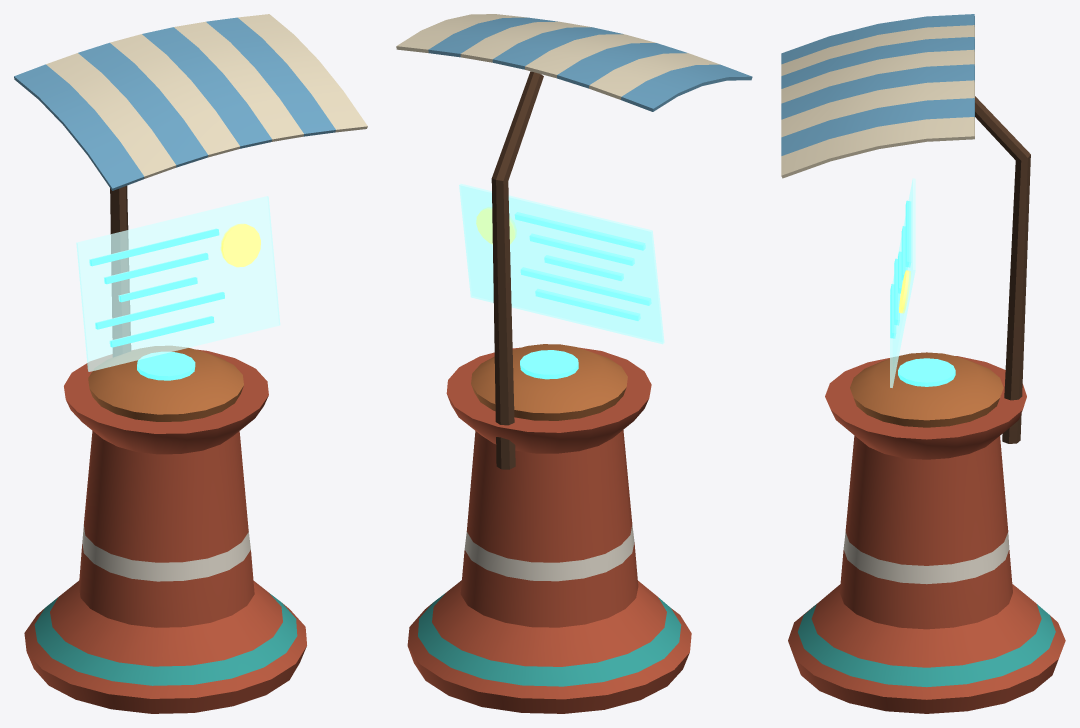
The model's file is deco_info_terminal_kiosk.fbx.
3 views of the same model, side by side, from view 1: azimuth 30°, elevation 25°; view 2: azimuth 150°, elevation 25°; view 3: azimuth 270°, elevation 25° (orthographic). The views are drawn at different scales.
Visible parts, largest first — view 1: InfoTerminal_Kiosk_Pillar, InfoTerminal_Kiosk_Canopy, InfoTerminal_Kiosk_Hologram, InfoTerminal_Kiosk_Emitter; view 2: InfoTerminal_Kiosk_Pillar, InfoTerminal_Kiosk_Canopy, InfoTerminal_Kiosk_Hologram, InfoTerminal_Kiosk_Emitter; view 3: InfoTerminal_Kiosk_Pillar, InfoTerminal_Kiosk_Canopy, InfoTerminal_Kiosk_Emitter, InfoTerminal_Kiosk_Hologram.
Boxes of the visible parts, box(x1,y1,x2,y2) form: InfoTerminal_Kiosk_Pillar: box(24, 349, 306, 713); InfoTerminal_Kiosk_Canopy: box(14, 14, 367, 357); InfoTerminal_Kiosk_Hologram: box(76, 196, 280, 371); InfoTerminal_Kiosk_Emitter: box(88, 346, 243, 421); InfoTerminal_Kiosk_Pillar: box(407, 347, 691, 713); InfoTerminal_Kiosk_Canopy: box(396, 14, 752, 469); InfoTerminal_Kiosk_Hologram: box(459, 183, 664, 344); InfoTerminal_Kiosk_Emitter: box(471, 344, 627, 420); InfoTerminal_Kiosk_Pillar: box(788, 356, 1065, 713); InfoTerminal_Kiosk_Canopy: box(781, 14, 1030, 443); InfoTerminal_Kiosk_Emitter: box(850, 352, 1003, 427); InfoTerminal_Kiosk_Hologram: box(890, 178, 915, 387).
Size of the model in its own units: 120 by 272 by 118.
